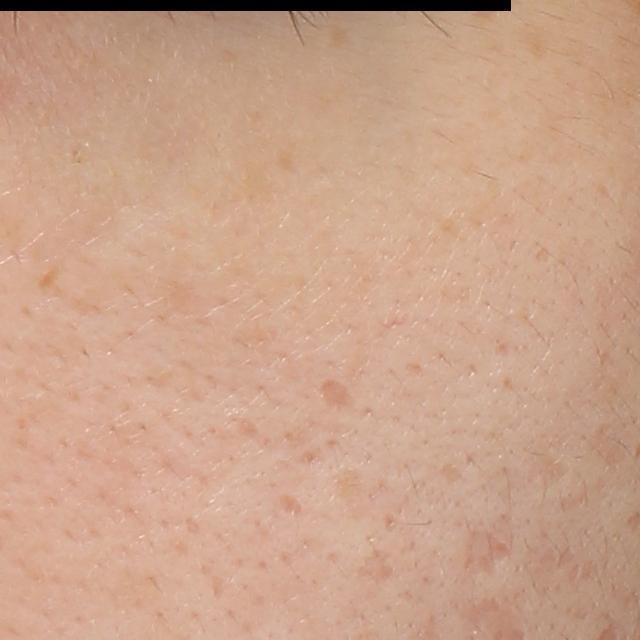atrophic_scar: (462, 528, 521, 575), (354, 546, 396, 586), (318, 376, 360, 409), (276, 494, 302, 515)
melasma: (326, 22, 356, 50)
